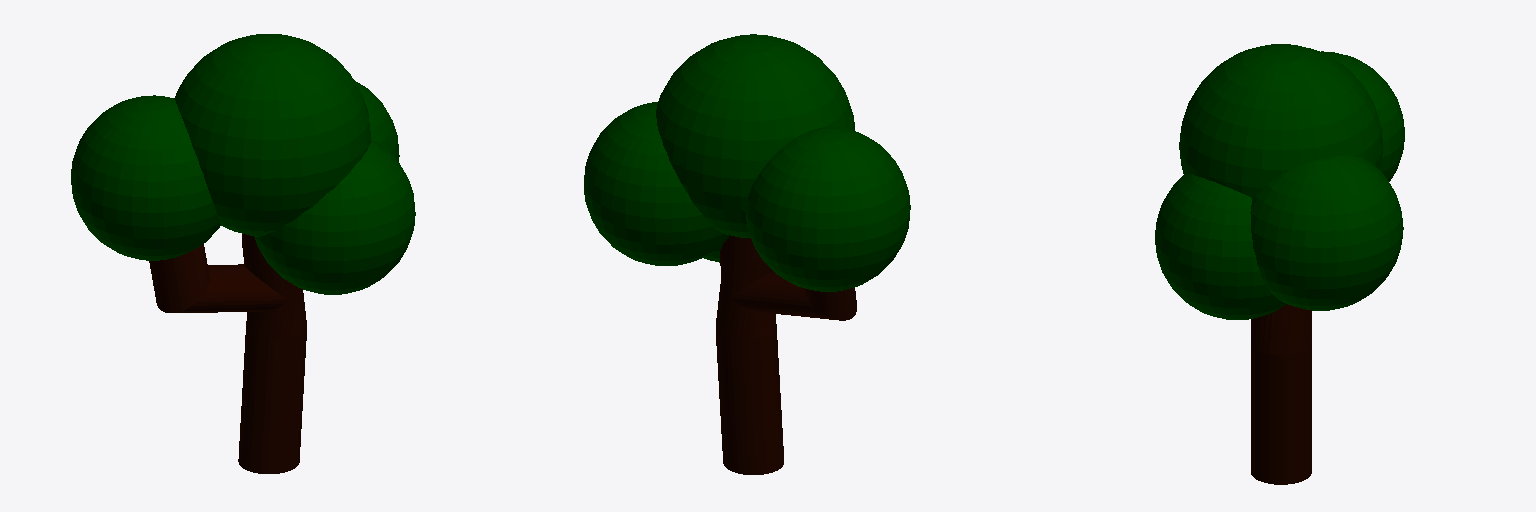
File: pohon.obj
The picture shows the model from 3 angles: view 1: azimuth 30°, elevation 25°; view 2: azimuth 150°, elevation 25°; view 3: azimuth 270°, elevation 25°; orthographic projection.
Visible parts, largest first — view 1: Sphere, Sphere.001, Cylinder, Sphere.003, Sphere.002; view 2: Sphere, Sphere.001, Cylinder, Sphere.002; view 3: Sphere, Sphere.002, Sphere.003, Cylinder, Sphere.001.
Part boxes in pixels (left/top/right/bottom): Sphere: left=174, top=34, right=370, bottom=236; Sphere.001: left=71, top=95, right=220, bottom=260; Cylinder: left=149, top=234, right=306, bottom=473; Sphere.003: left=254, top=139, right=415, bottom=294; Sphere.002: left=354, top=80, right=399, bottom=161; Sphere: left=656, top=34, right=854, bottom=237; Sphere.001: left=745, top=127, right=910, bottom=291; Cylinder: left=716, top=235, right=856, bottom=474; Sphere.002: left=584, top=102, right=729, bottom=265; Sphere: left=1179, top=44, right=1382, bottom=197; Sphere.002: left=1250, top=156, right=1403, bottom=310; Sphere.003: left=1155, top=174, right=1285, bottom=319; Cylinder: left=1251, top=304, right=1311, bottom=484; Sphere.001: left=1321, top=51, right=1404, bottom=181.
Size of the model in its own units: 5.76 by 7.53 by 4.08.